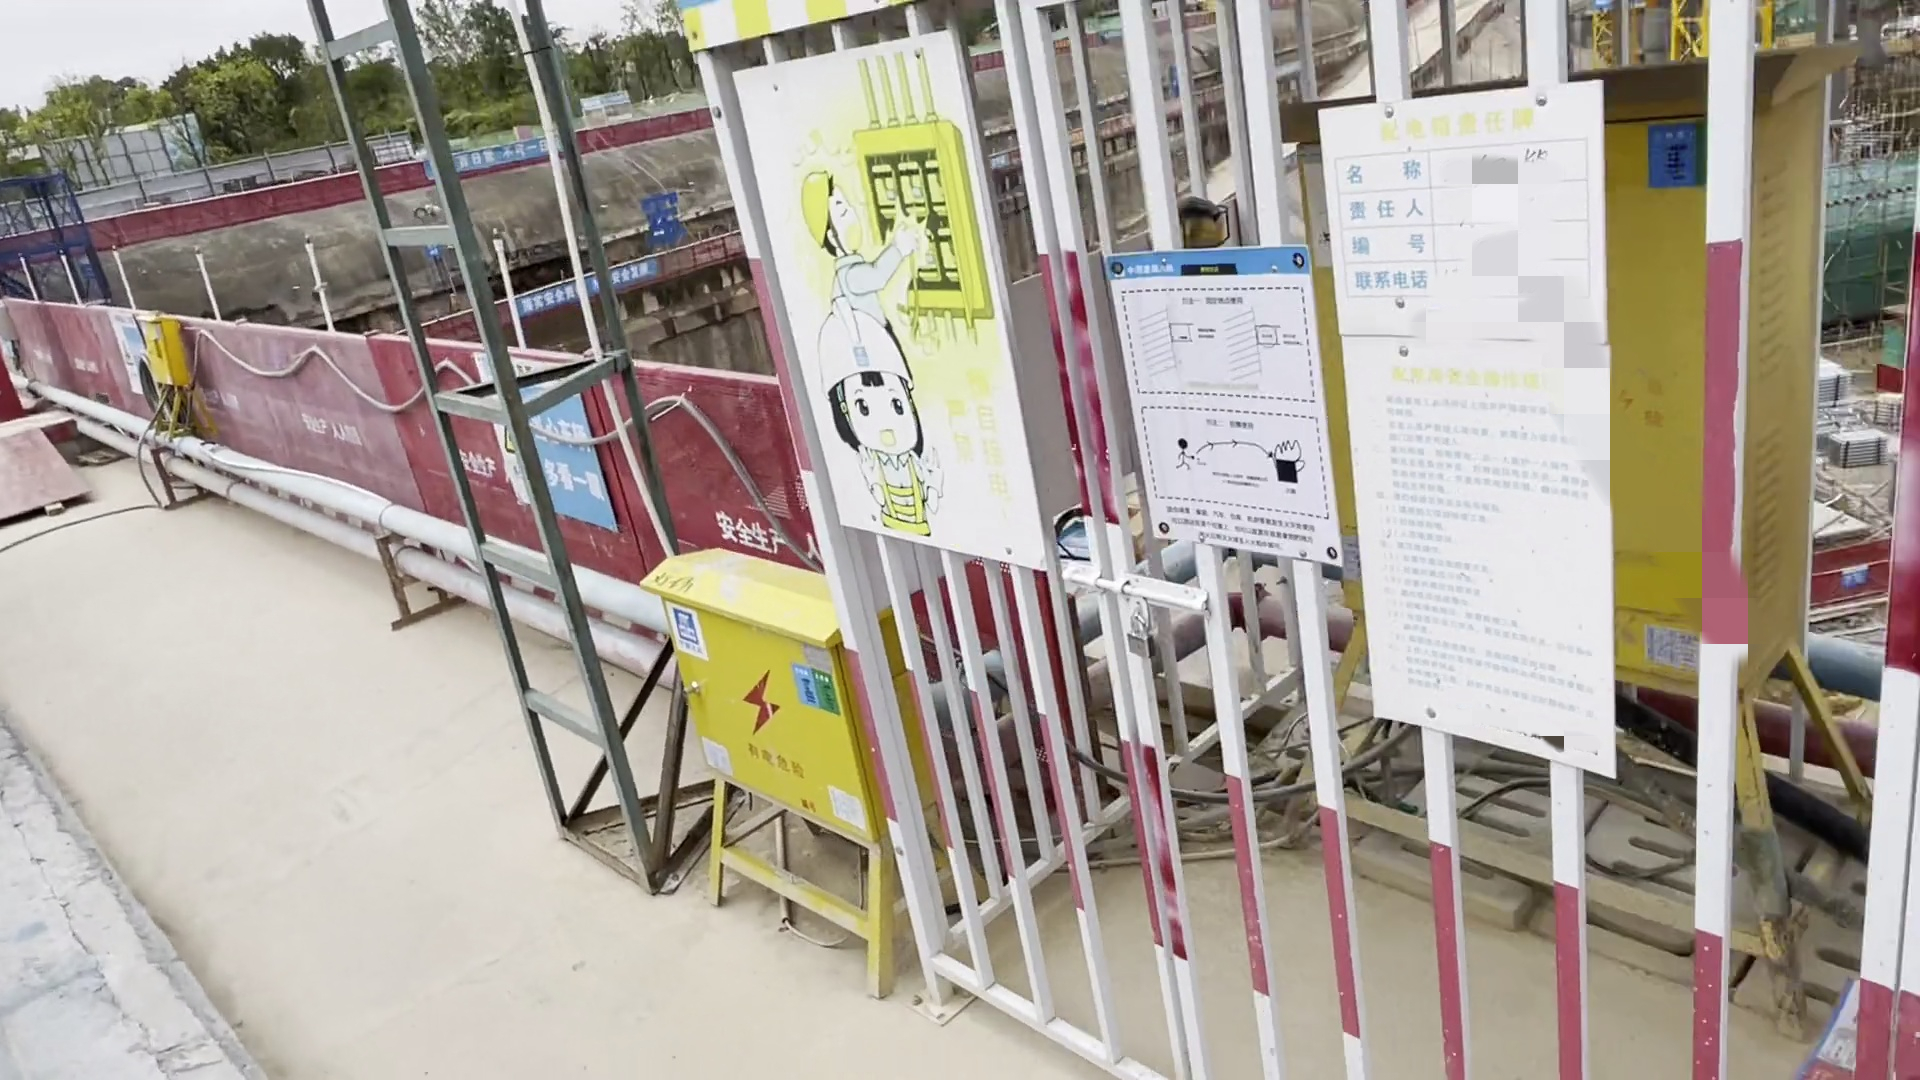board: (1, 418, 91, 549)
ebox: (1600, 47, 1859, 1040), (618, 520, 924, 1013), (135, 311, 198, 418)
fence: (3, 272, 796, 566)
slogan: (717, 29, 1077, 582), (443, 355, 641, 538)
